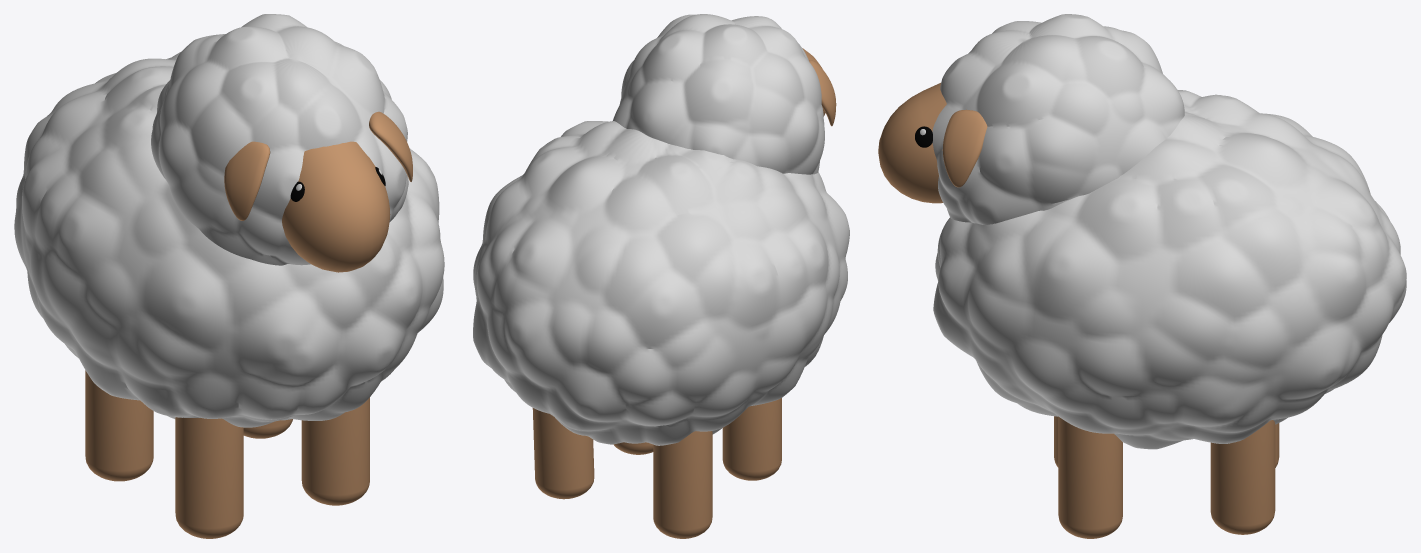
The model's file is sheepScene.gltf.
3 views of the same model, side by side, from view 1: azimuth 30°, elevation 25°; view 2: azimuth 150°, elevation 25°; view 3: azimuth 270°, elevation 25° (orthographic). The views are drawn at different scales.
Parts seen in each view (by area): view 1: Sphere.002_0, Sphere_1, Sphere.001_2, Sphere.003_3, Sphere.004_4, Cube.001_11, Cube_10, Sphere.005_5; view 2: Sphere.002_0, Sphere.004_4, Sphere.005_5, Sphere.001_2, Cube.001_11; view 3: Sphere.002_0, Sphere.003_3, Sphere.005_5, Sphere_1, Cube_10.
Boxes of the visible parts, x1,y1,x2,y2 form: Sphere.002_0: (14,14,444,427); Sphere_1: (282,141,390,272); Sphere.001_2: (175,417,243,538); Sphere.003_3: (301,397,369,505); Sphere.004_4: (85,370,153,481); Cube.001_11: (224,141,270,220); Cube_10: (369,111,412,181); Sphere.005_5: (243,419,292,438); Sphere.002_0: (473,14,849,445); Sphere.004_4: (653,431,712,538); Sphere.005_5: (532,408,594,499); Sphere.001_2: (722,398,781,480); Cube.001_11: (809,60,836,126); Sphere.002_0: (932,14,1406,449); Sphere.003_3: (1058,416,1122,538); Sphere.005_5: (1210,420,1275,534); Sphere_1: (878,83,946,203); Cube_10: (942,109,987,187).
Bounding box in the file's own units: 5.16 × 6.94 × 6.96.
